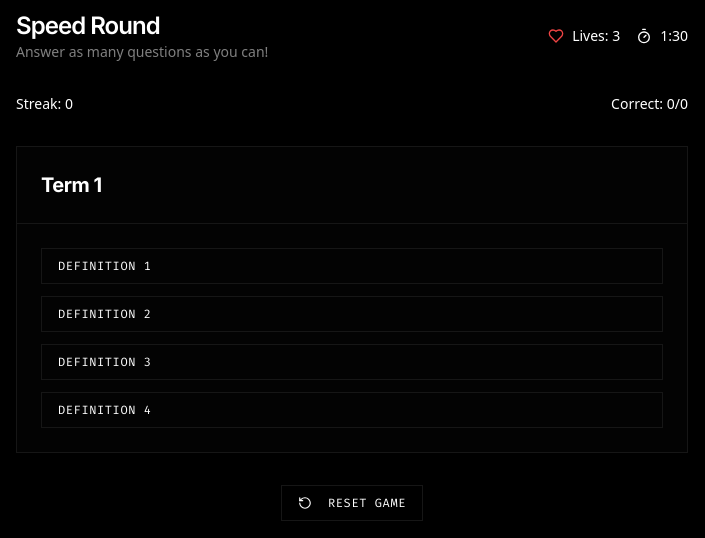
Test case: SpeedRoundGame › submits a correct answer and increments streak
Click the button "Definition 1" at (105, 266), box [41, 248, 663, 284]
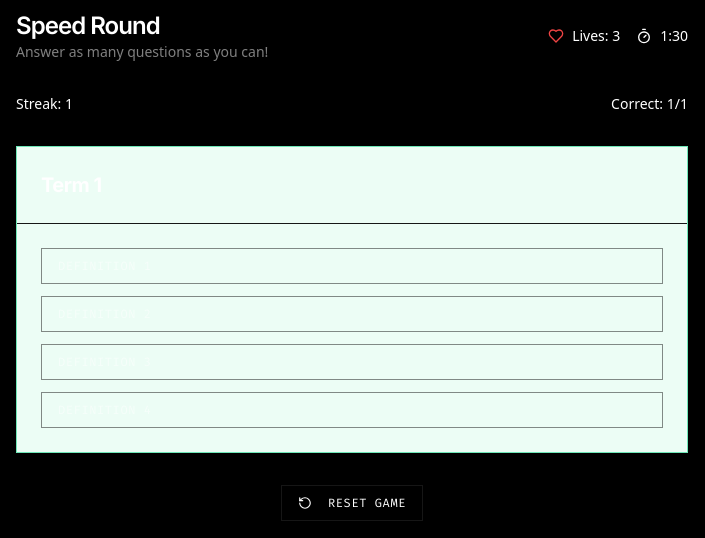
Result: the text "Streak: 1" is shown at [16, 94, 73, 114]
